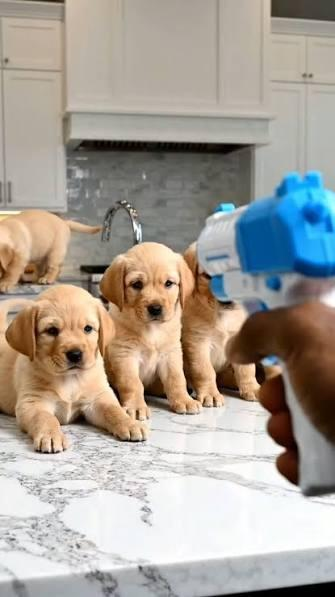puppy-dog: (1, 281, 150, 454), (98, 241, 203, 421), (181, 244, 267, 408), (0, 208, 103, 294)
